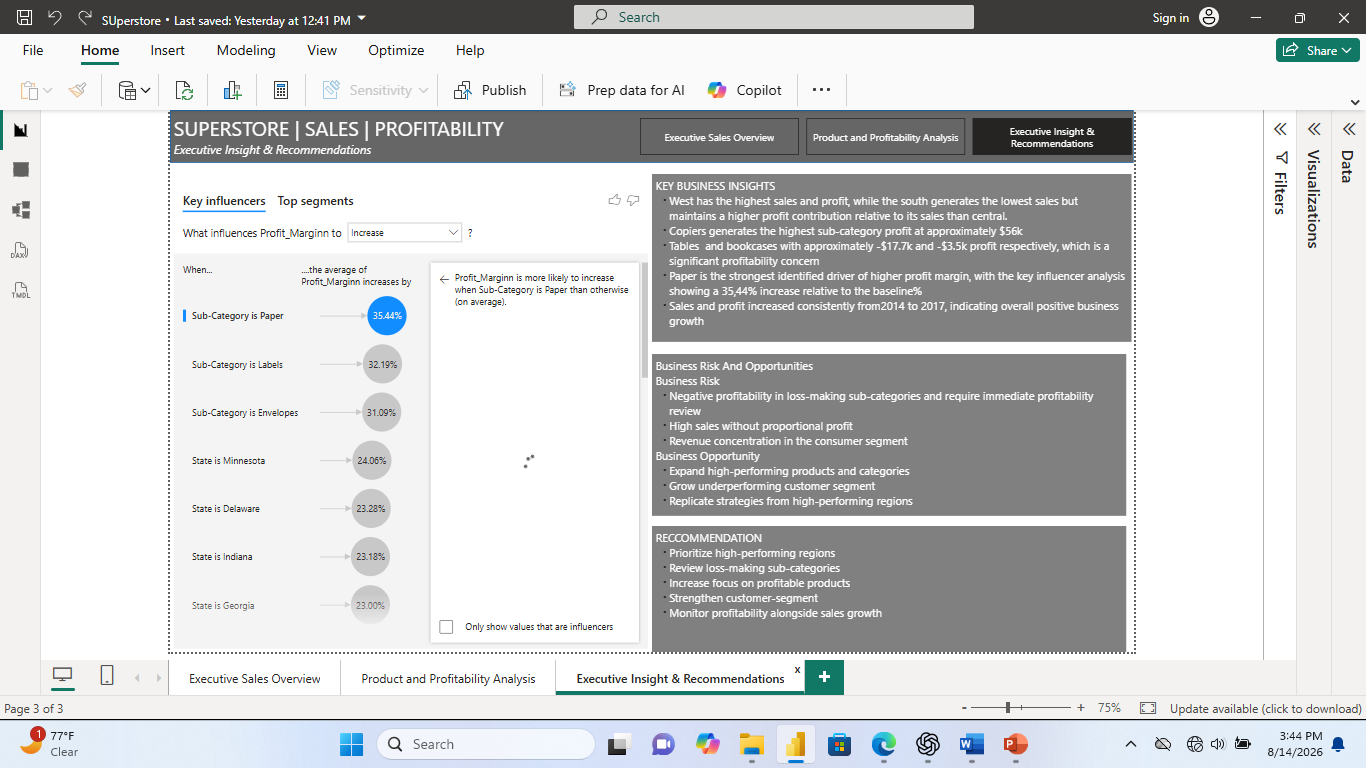

The dashboard page shown, as its layout file describes it:
{"tool":"powerbi","page":{"name":"Executive Insight & Recommendations","canvas":[1280,720],"ordinal":2},"visuals":[{"type":"keyDriversVisual","fields":{"ExplainBy":["Sample - Superstore.Product Name","Sample - Superstore.Segment","Sample - Superstore.Category","Sample - Superstore.State","Sample - Superstore.Sub-Category","Sample - Superstore.City","Calendar.Date.Variation.Date Hierarchy.Year"],"Target":["Sample - Superstore.Profit_Marginn"]},"box":[0,95.7,640,624.9],"z":0},{"type":"shape","box":[0,0,1280.5,70.2],"z":1000},{"type":"textbox","box":[0,-0.3,772.7,70.6],"z":2000},{"type":"pageNavigator","box":[624.9,10.2,655.6,49.8],"z":3000},{"type":"shape","box":[666.9,70.6,613.1,650.1],"z":4000},{"type":"textbox","box":[640,85.7,636.6,223.4],"z":5000},{"type":"textbox","box":[640,552.7,629.9,168],"z":6000},{"type":"textbox","box":[640,324.2,629.9,215],"z":7000}]}

Visuals, with their boxes on the page's 1280x720 design canvas (x1, y1, x2, y2). These are canvas units, not pixel positions in the 1366x768 screenshot, which may show the page scaled, cropped or inside an application window:
keyDriversVisual - Sample - Superstore.Product Name x Sample - Superstore.Segment: 0,96,640,721
shape: 0,0,1280,70
textbox: 0,0,773,70
pageNavigator: 625,10,1280,60
shape: 667,71,1280,721
textbox: 640,86,1277,309
textbox: 640,553,1270,721
textbox: 640,324,1270,539
